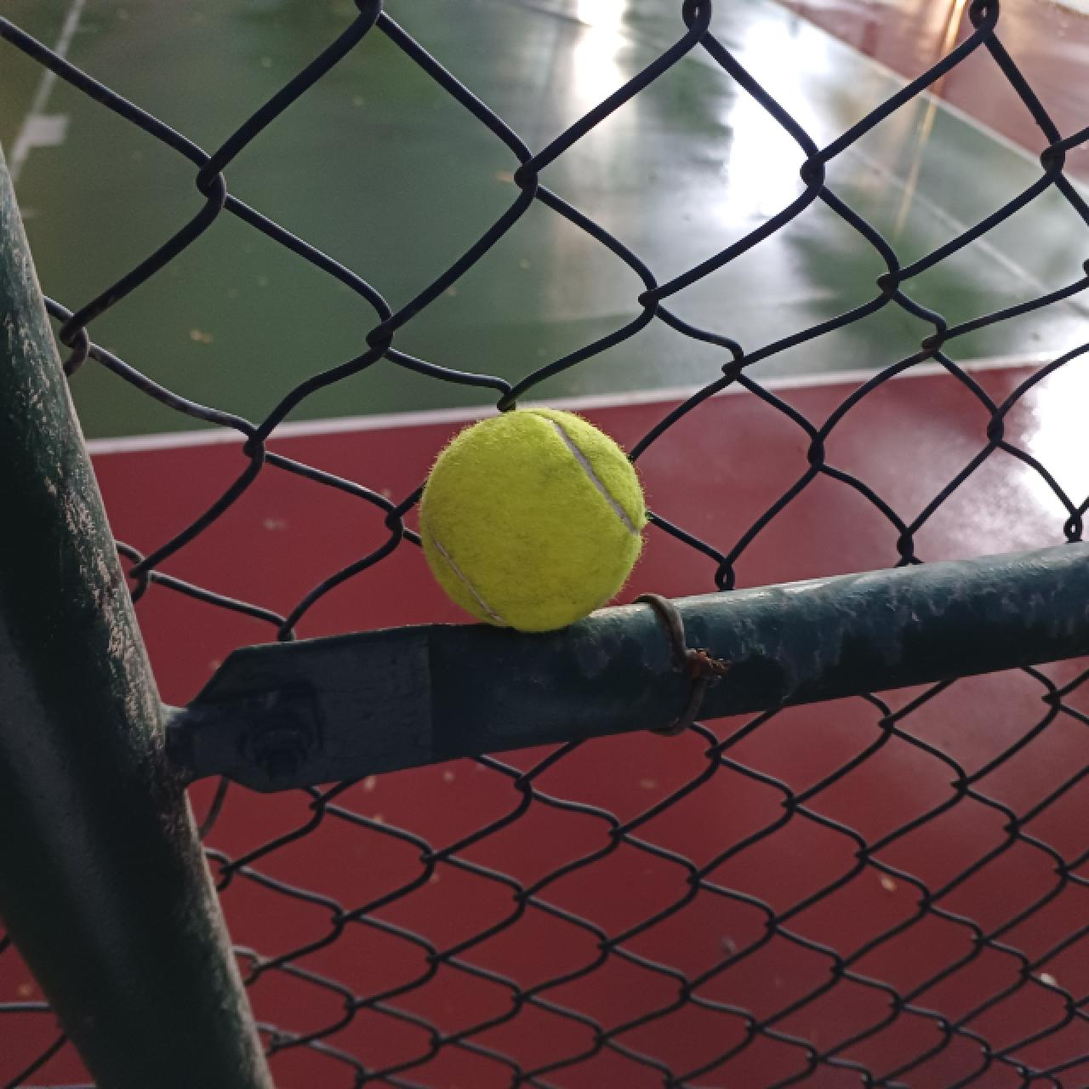tennis-ball: (419, 404, 647, 634)
